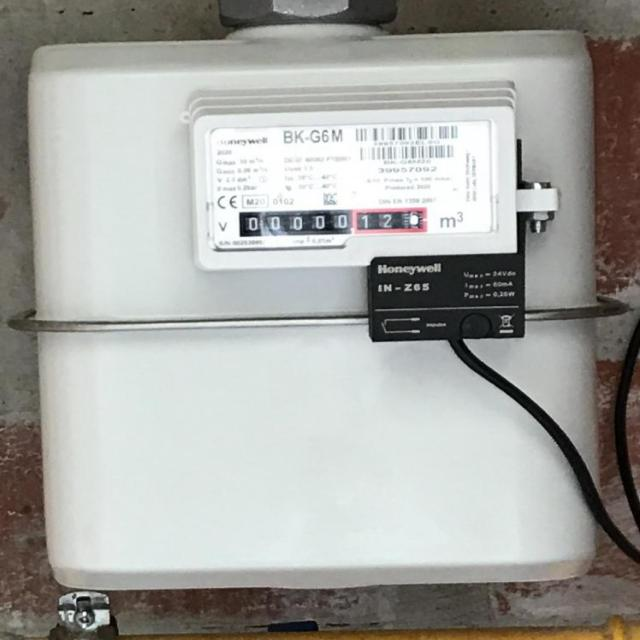gaz_meter: (208, 120, 499, 248)
indication: (241, 209, 429, 238)
